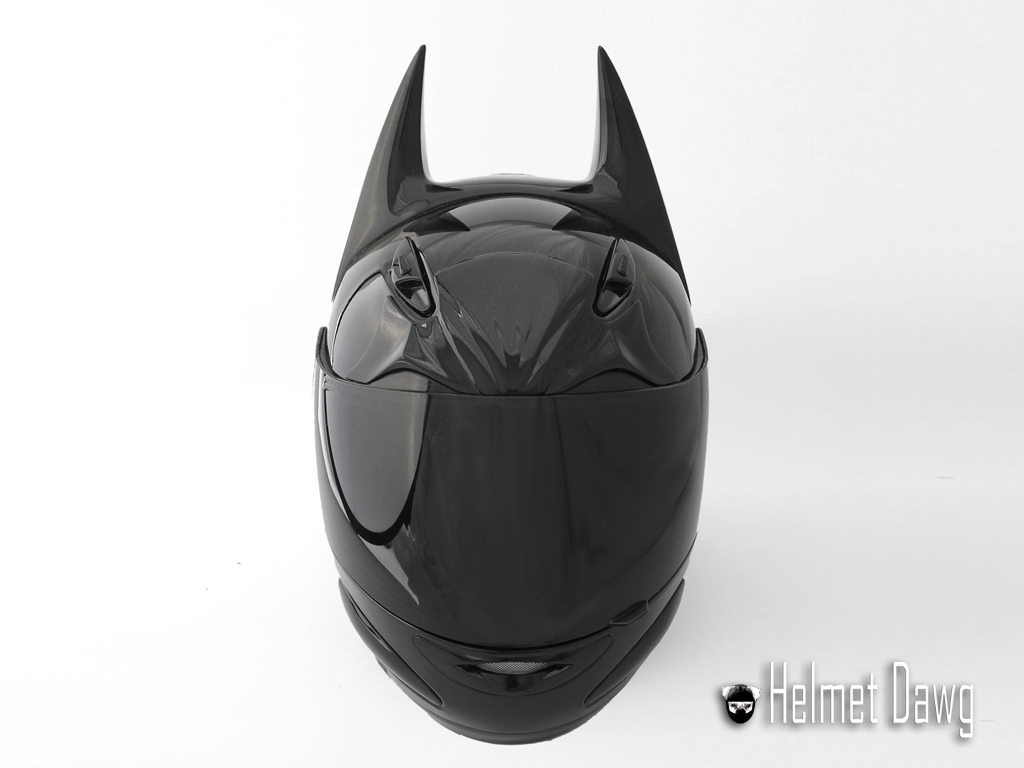with_helmet: (306, 23, 715, 750)
